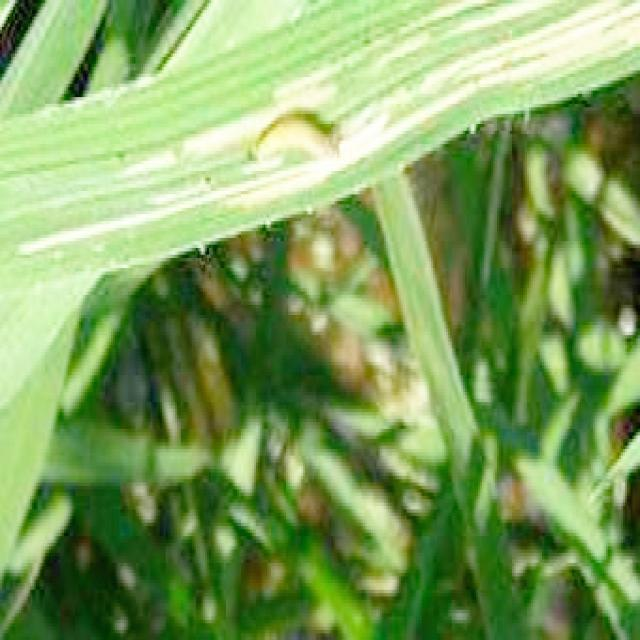leaf-folder: (244, 91, 344, 201)
